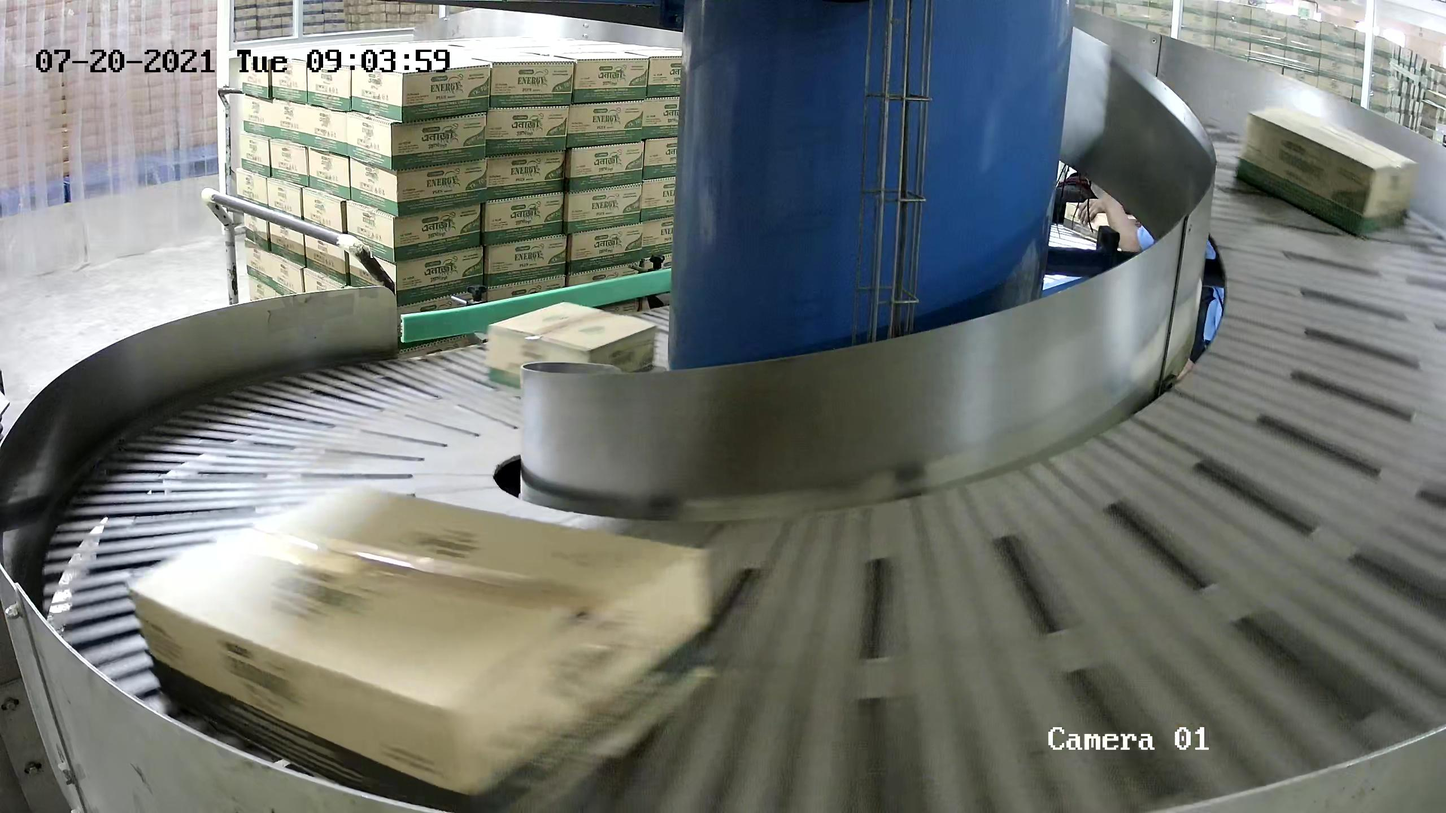Box: (129, 479, 717, 813), (1234, 106, 1419, 238), (485, 301, 658, 389)
